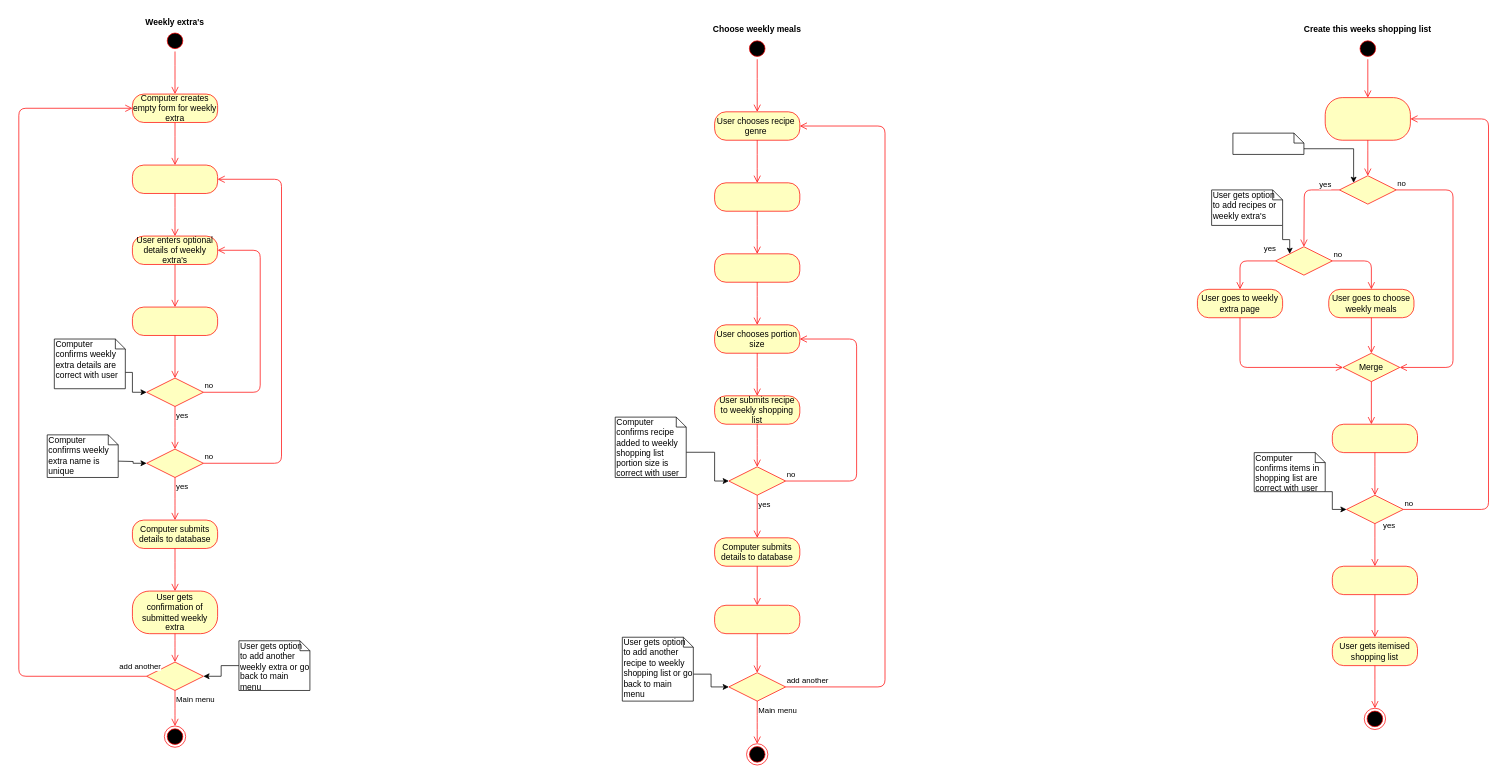
Image size: 1508x777. Some labels were removed from this diagram. Each missing label, with the box of its shape:
Computer generates itemised shopping list: (1332, 566, 1418, 595)
Computer uploads recipes and weekly extra's for this weeks shopping list: (1325, 97, 1410, 140)
Computer uploads recipes from database: (714, 182, 800, 211)
User chooses recipe from list: (714, 253, 800, 282)
User enters name of weekly extra: (132, 164, 218, 193)
User gets confirmation: (714, 605, 800, 634)
User gets option to add more items: (1232, 132, 1304, 154)
User Submits shopping list: (1332, 424, 1418, 453)
User submits weekly extra: (132, 306, 218, 335)
